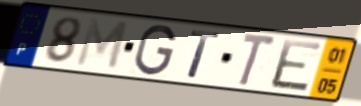8: (44, 16, 85, 65)
E: (268, 37, 325, 95)
G: (132, 23, 178, 78)
M: (73, 16, 131, 73)
T: (236, 31, 279, 89), (185, 29, 223, 81)
